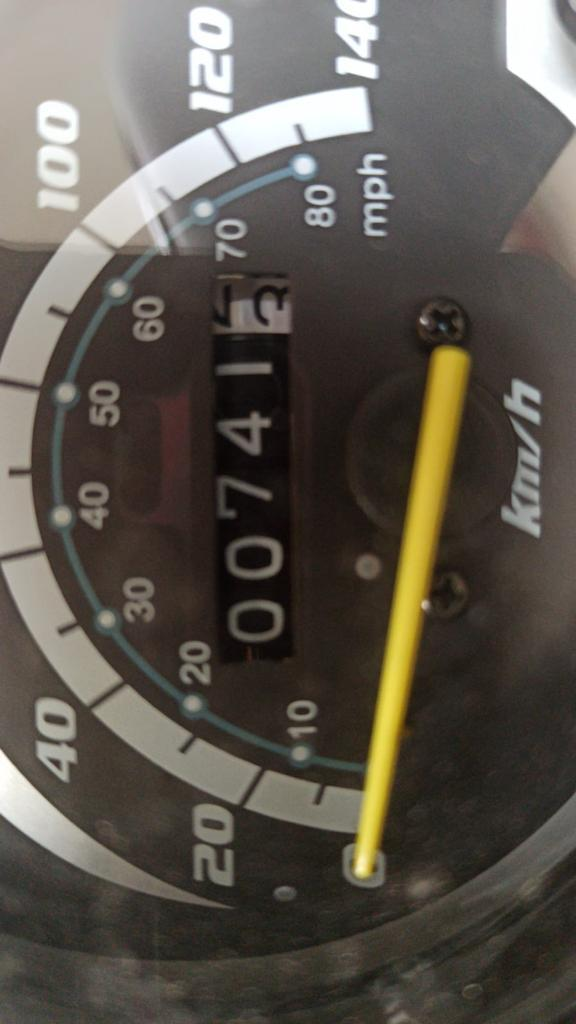0: (220, 533, 290, 583), (220, 595, 289, 645)
1: (207, 352, 281, 386)
2: (201, 277, 239, 332)
3: (247, 278, 297, 330)
4: (212, 407, 279, 459)
7: (210, 468, 281, 524)
odometer: (198, 263, 301, 671)
